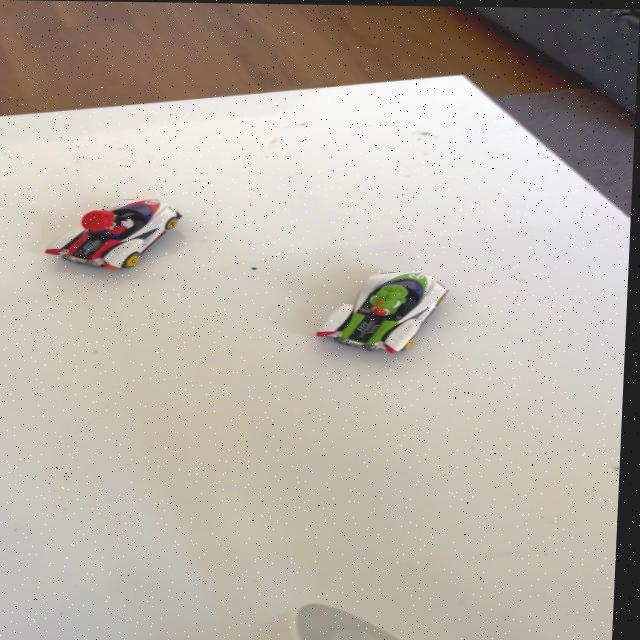mario: (39, 194, 196, 276)
yoshi: (310, 261, 468, 361)
